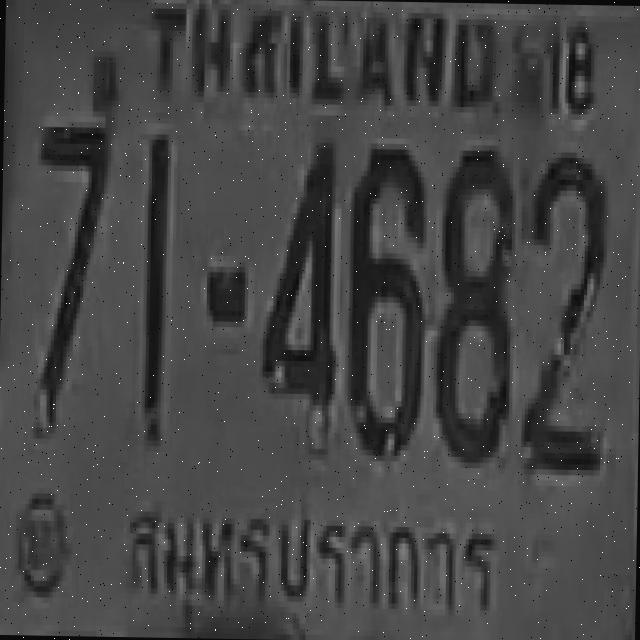1: (140, 131, 168, 443)
2: (518, 148, 606, 472)
4: (258, 133, 336, 424)
6: (344, 140, 424, 453)
7: (33, 117, 108, 426)
8: (432, 141, 514, 460)
SamutPrakan: (114, 474, 504, 626)
